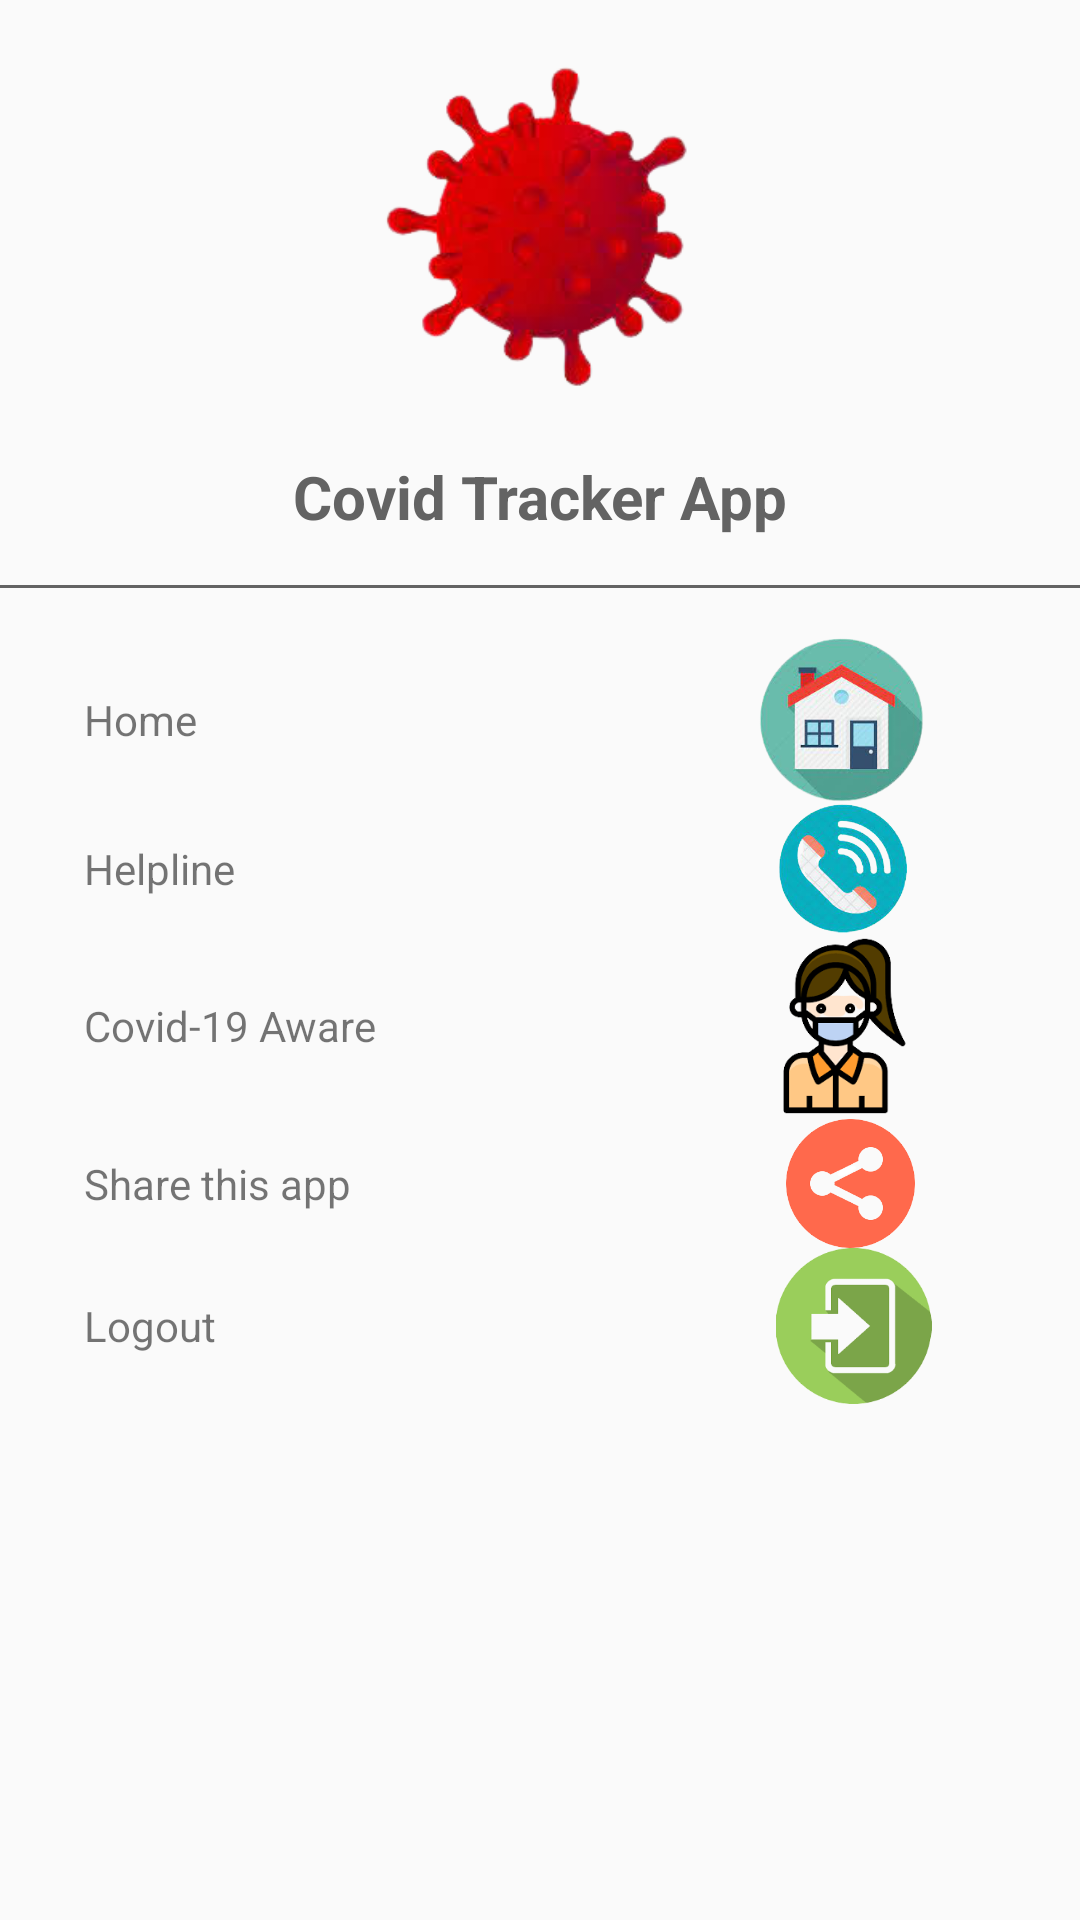

Named icons in this screenshot (1080x1920) and their bounding boxes, (left=x1, top=y1, right=x2, bottom=y2):
corona: (left=387, top=68, right=687, bottom=386)
